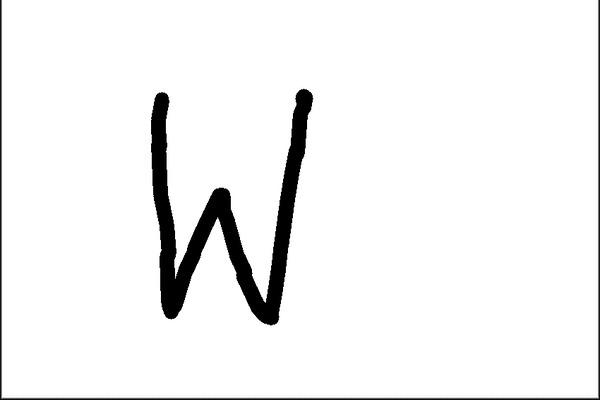w: (134, 76, 319, 338)
